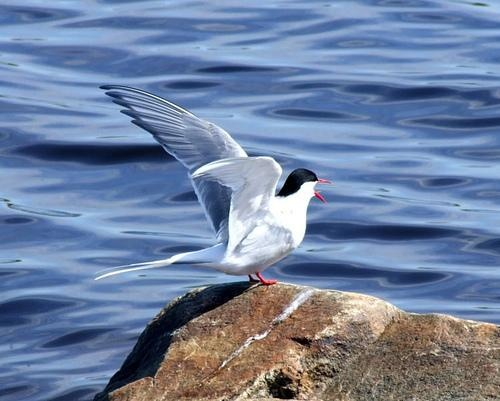bird: (74, 82, 334, 290)
